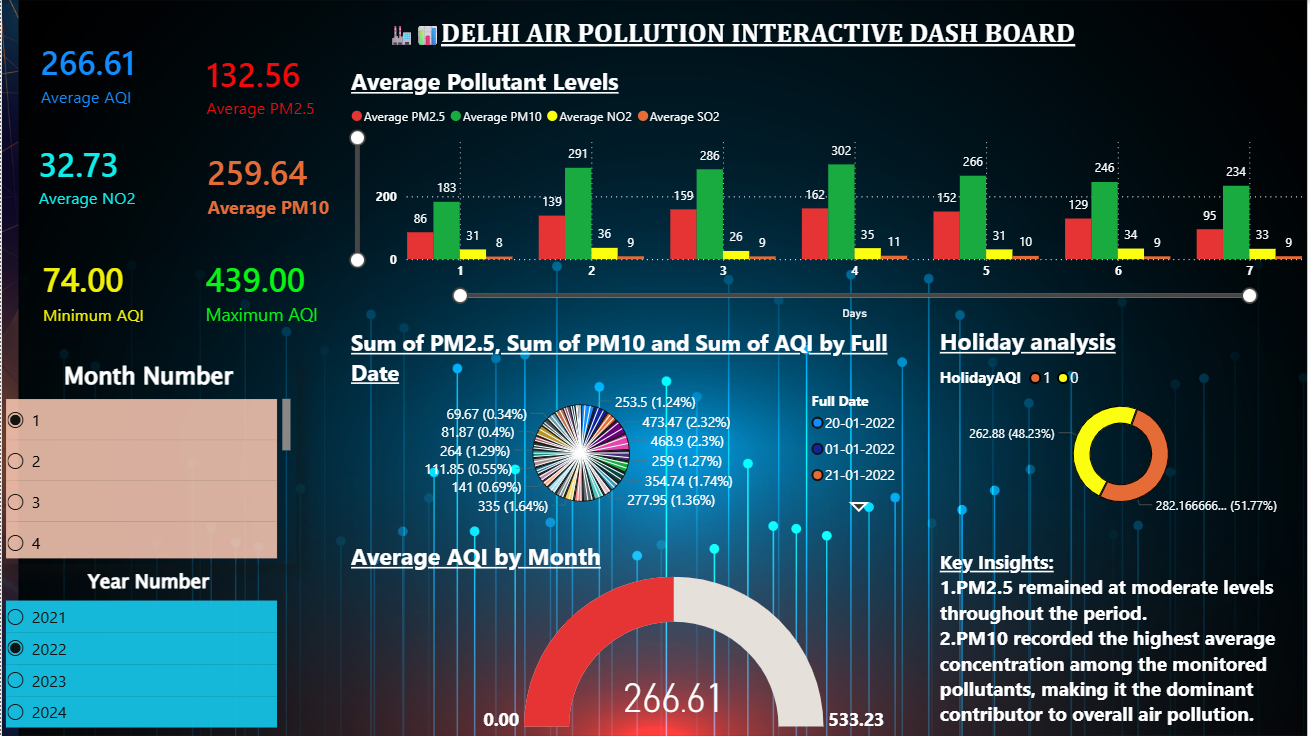

The page's visual inventory and layout, read from the dashboard file:
{"tool":"powerbi","page":{"name":"Page 1","canvas":[1280,720],"ordinal":0},"visuals":[{"type":"image","box":[1.2,0,1279.1,720.2],"z":0},{"type":"cardVisual","fields":{"Data":["delhi_air_quality_clean.Average NO2"]},"box":[0,103.9,199.3,134.5],"z":2000},{"type":"cardVisual","fields":{"Data":["delhi_air_quality_clean.Average PM10"]},"box":[165.1,112.5,209.1,134.5],"z":4000},{"type":"clusteredColumnChart","title":"Average Pollutant Levels","fields":{"Y":["delhi_air_quality_clean.Average PM2.5","delhi_air_quality_clean.Average PM10","delhi_air_quality_clean.Average NO2","delhi_air_quality_clean.Average SO2"],"Category":["delhi_air_quality_clean.Days"]},"box":[362,289.8,918.3,253.1],"z":6000},{"type":"scatterChart","fields":{"Size":["Sum(delhi_air_quality_clean.PM10)"],"X":["Sum(delhi_air_quality_clean.PM2.5)"],"Y":["Sum(delhi_air_quality_clean.AQI)"],"Category":["delhi_air_quality_clean.Full Date"]},"box":[362,545.4,918.3,174.9],"z":7000},{"type":"cardVisual","fields":{"Data":["delhi_air_quality_clean.Maximum AQI"]},"box":[165.1,218.9,199.3,132.1],"z":8000},{"type":"listSlicer","fields":{"Values":["delhi_air_quality_clean.Month Number"]},"box":[37.9,342.4,302,200.5],"z":10000},{"type":"listSlicer","fields":{"Values":["delhi_air_quality_clean.Year Number"]},"box":[37.9,545.4,302,159],"z":11000},{"type":"textbox","box":[448.8,1.2,734.9,88],"z":13000},{"type":"cardVisual","fields":{"Data":["delhi_air_quality_clean.Minimum AQI"]},"box":[0,209.1,189.5,151.6],"z":14000},{"type":"lineChart","title":"Average AQI by Date","fields":{"Y":["delhi_air_quality_clean.Average AQI"],"Series":["delhi_air_quality_clean.Year Number"],"Category":["delhi_air_quality_clean.Full Date Hierarchy.Full Date"]},"box":[359.5,89.3,918.3,201.8],"z":14001},{"type":"cardVisual","fields":{"Data":["delhi_air_quality_clean.Average AQI"]},"box":[0,0,192,144],"z":14003},{"type":"cardVisual","fields":{"Data":["delhi_air_quality_clean.Average PM2.5"]},"box":[176,0,176,144],"z":14004}]}

Visuals, with their boxes in screenshot pixels (x1, y1, x2, y2), scaled from the page's 1280x720 canvas onto the 1310x736 screenshot:
image: bbox=(1, 0, 1309, 735)
cardVisual - delhi_air_quality_clean.Average NO2: bbox=(0, 106, 204, 244)
cardVisual - delhi_air_quality_clean.Average PM10: bbox=(169, 115, 383, 252)
"Average Pollutant Levels" clusteredColumnChart: bbox=(370, 296, 1309, 555)
scatterChart - Sum(delhi_air_quality_clean.PM10) x Sum(delhi_air_quality_clean.PM2.5): bbox=(370, 558, 1309, 735)
cardVisual - delhi_air_quality_clean.Maximum AQI: bbox=(169, 224, 373, 359)
listSlicer - delhi_air_quality_clean.Month Number: bbox=(39, 350, 348, 555)
listSlicer - delhi_air_quality_clean.Year Number: bbox=(39, 558, 348, 720)
textbox: bbox=(459, 1, 1211, 91)
cardVisual - delhi_air_quality_clean.Minimum AQI: bbox=(0, 214, 194, 369)
"Average AQI by Date" lineChart: bbox=(368, 91, 1308, 298)
cardVisual - delhi_air_quality_clean.Average AQI: bbox=(0, 0, 196, 147)
cardVisual - delhi_air_quality_clean.Average PM2.5: bbox=(180, 0, 360, 147)
